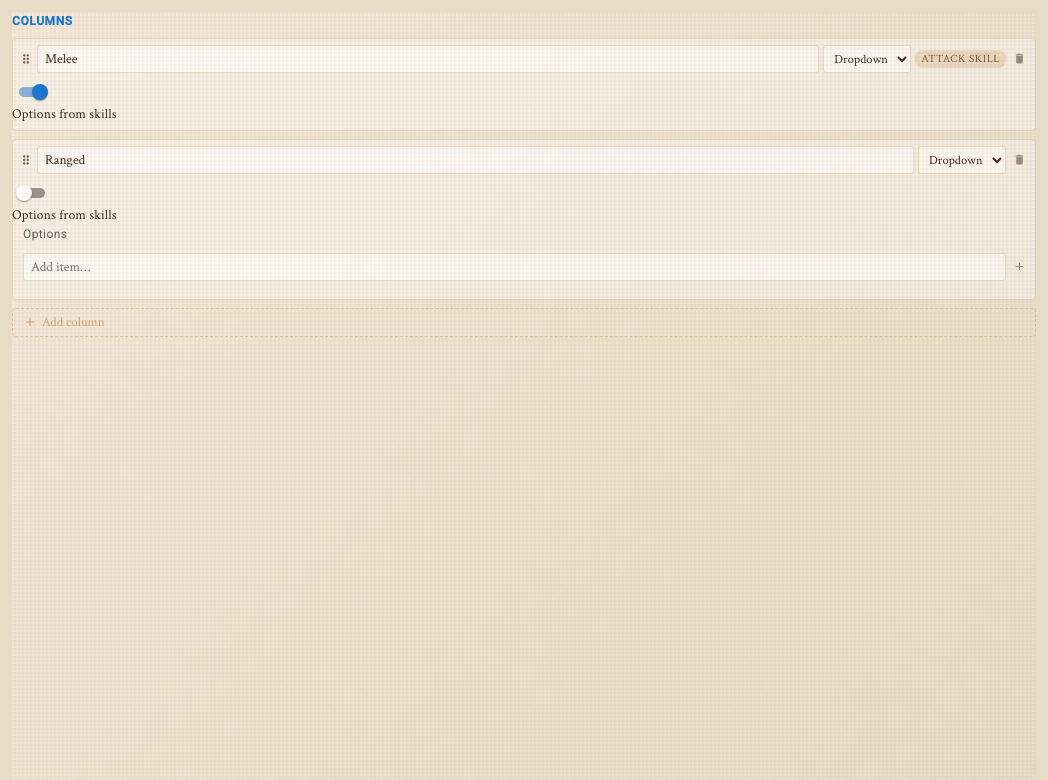
Scenario: TableColumnsEditor — weapons › removing the column that just took the flag drops the notice with it
This screenshot has width=1048, height=780.
Click the 2nd switch labelled "Options from skills" at {"x": 64, "y": 204}, box top-left (12, 185), bottom-right (117, 224)
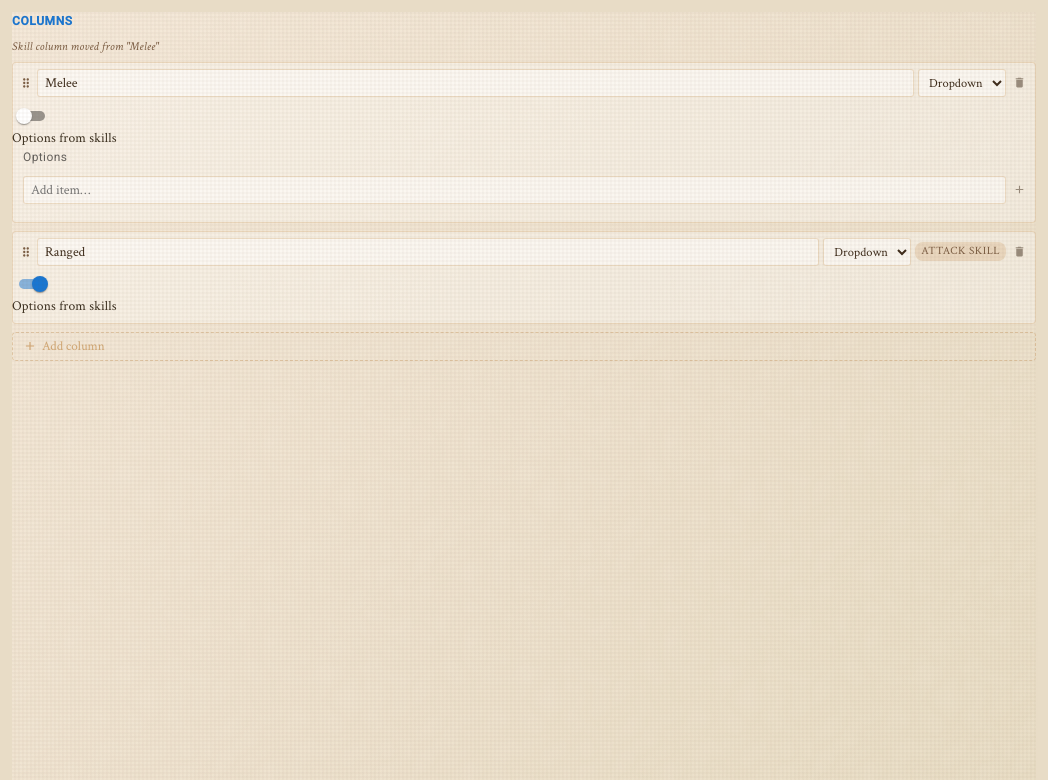
Expected: the text "Skill column moved from \"Melee\"" is shown, top-left (12, 39), bottom-right (159, 54)
Note: Delete column B — the recipient the notice names.
Click the button titled "Delete section" next to "attack skill" at {"x": 1020, "y": 252}, box top-left (1010, 242), bottom-right (1029, 261)
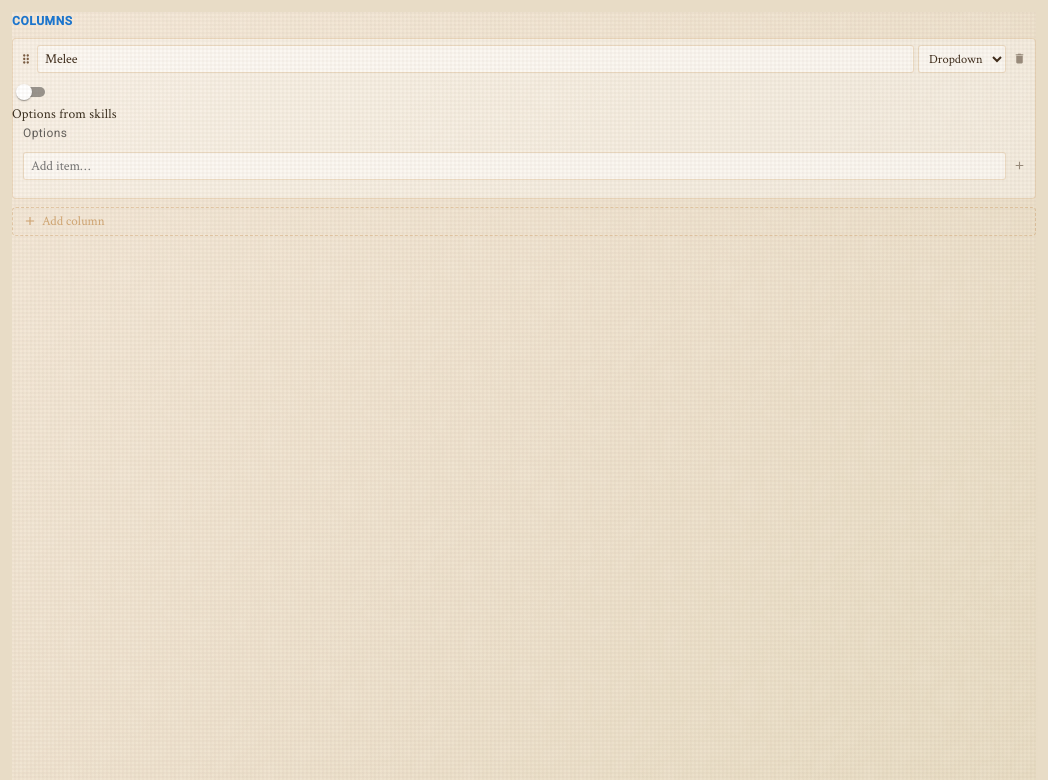
Expected: the text "Skill column moved from" is gone
